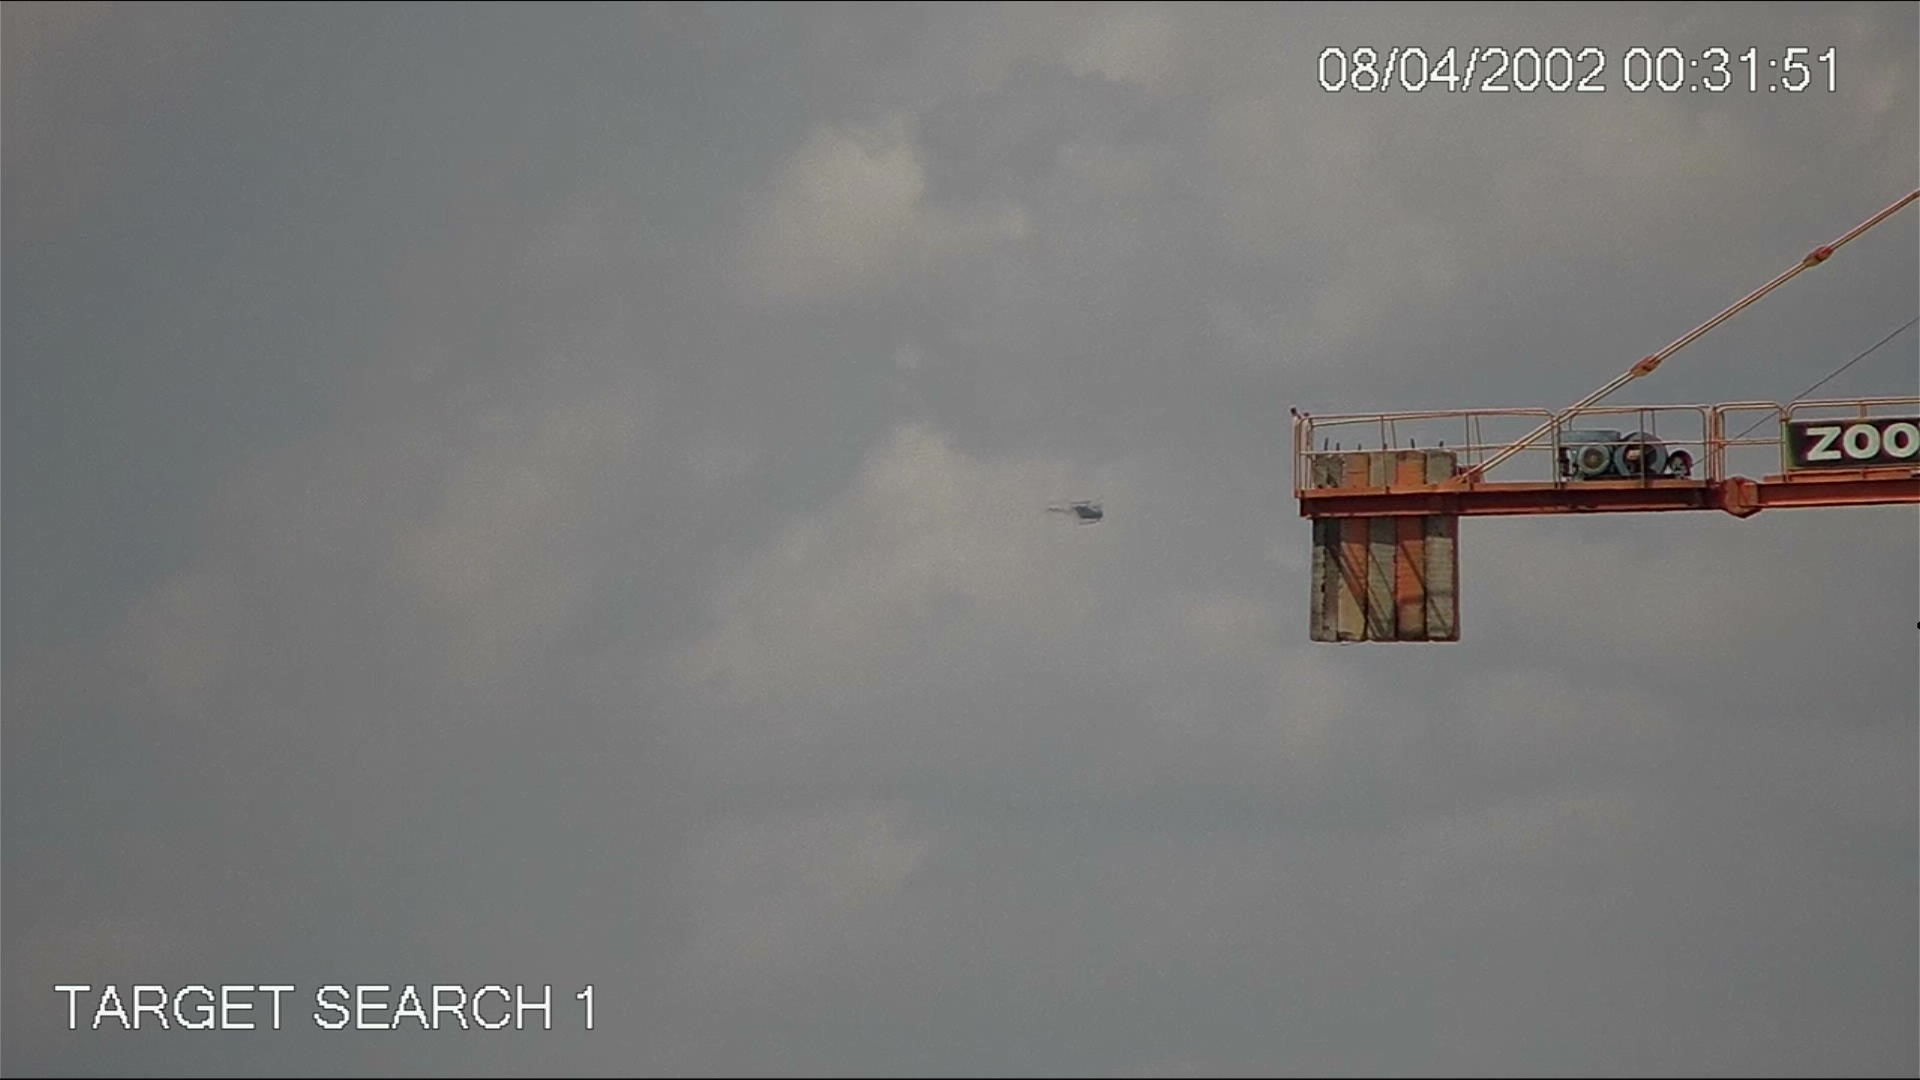SU_30: (1042, 495, 1113, 530)
